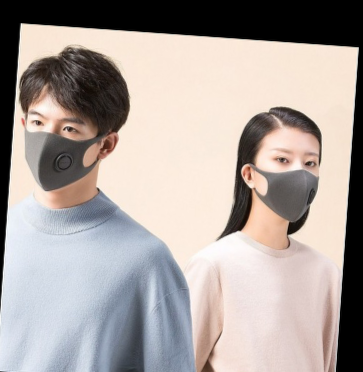with_mask: (22, 109, 97, 191), (253, 144, 318, 222)
